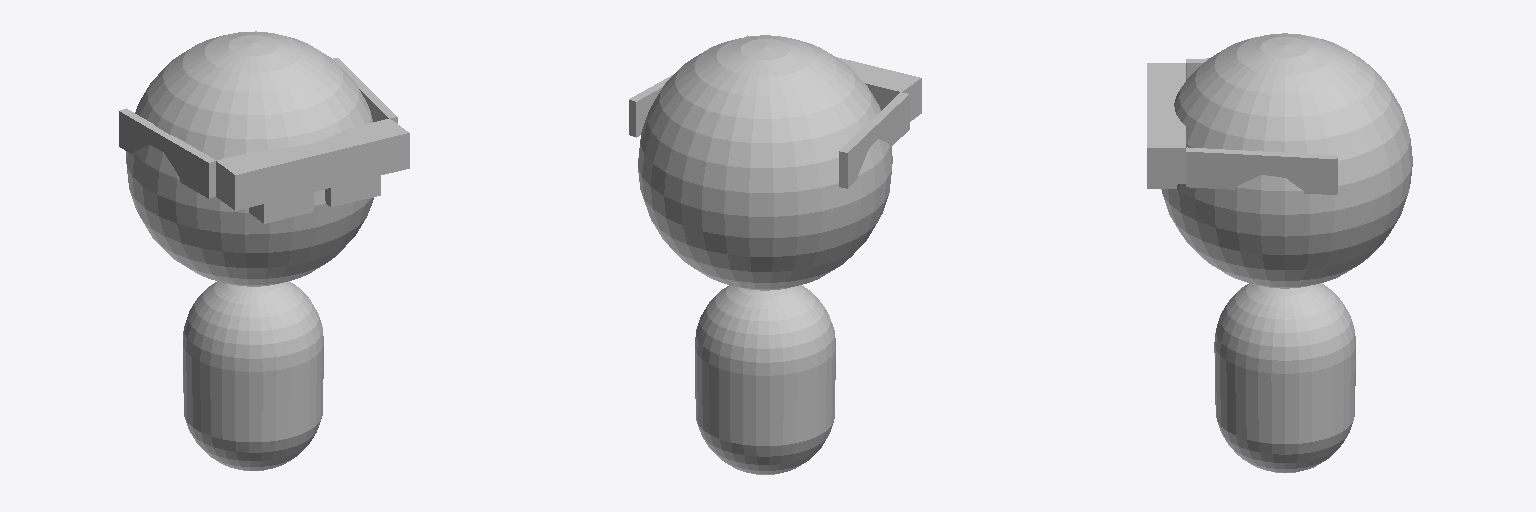
Rendered from Player.obj.
The picture shows the model from 3 angles: view 1: azimuth 30°, elevation 25°; view 2: azimuth 150°, elevation 25°; view 3: azimuth 270°, elevation 25°; orthographic projection.
Parts seen in each view (by area): view 1: Head, Thorso; view 2: Head, Thorso; view 3: Head, Thorso.
Part boxes in pixels (bbox=[...]): Head: bbox=[119, 31, 409, 286]; Thorso: bbox=[183, 281, 323, 470]; Head: bbox=[629, 35, 921, 290]; Thorso: bbox=[695, 285, 835, 474]; Head: bbox=[1147, 33, 1412, 288]; Thorso: bbox=[1214, 283, 1355, 472].
Size of the model in its own units: 0.3 by 0.546 by 0.3125.